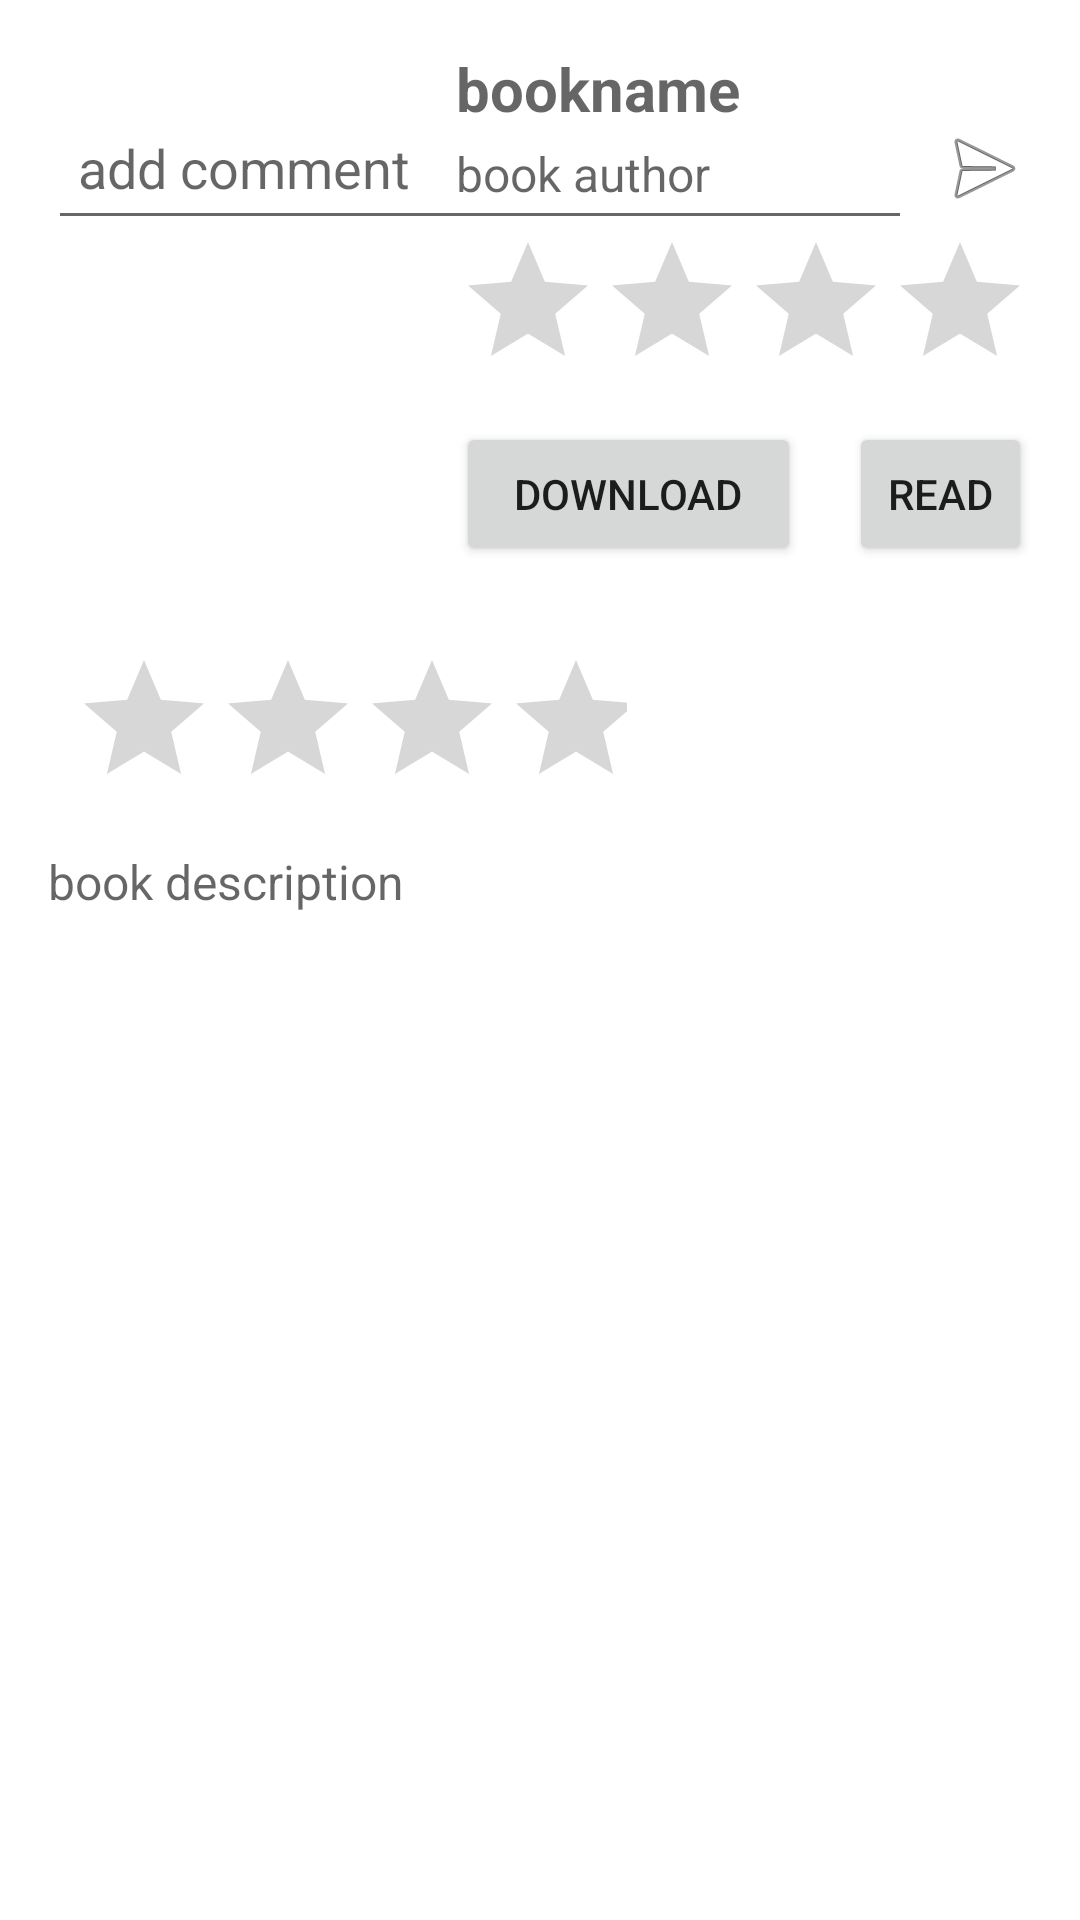

Icon bounding boxes for this 1080w x 1920h phone screenshot, format (x1, y1, x2, y2):
send: (954, 138, 1016, 199)
